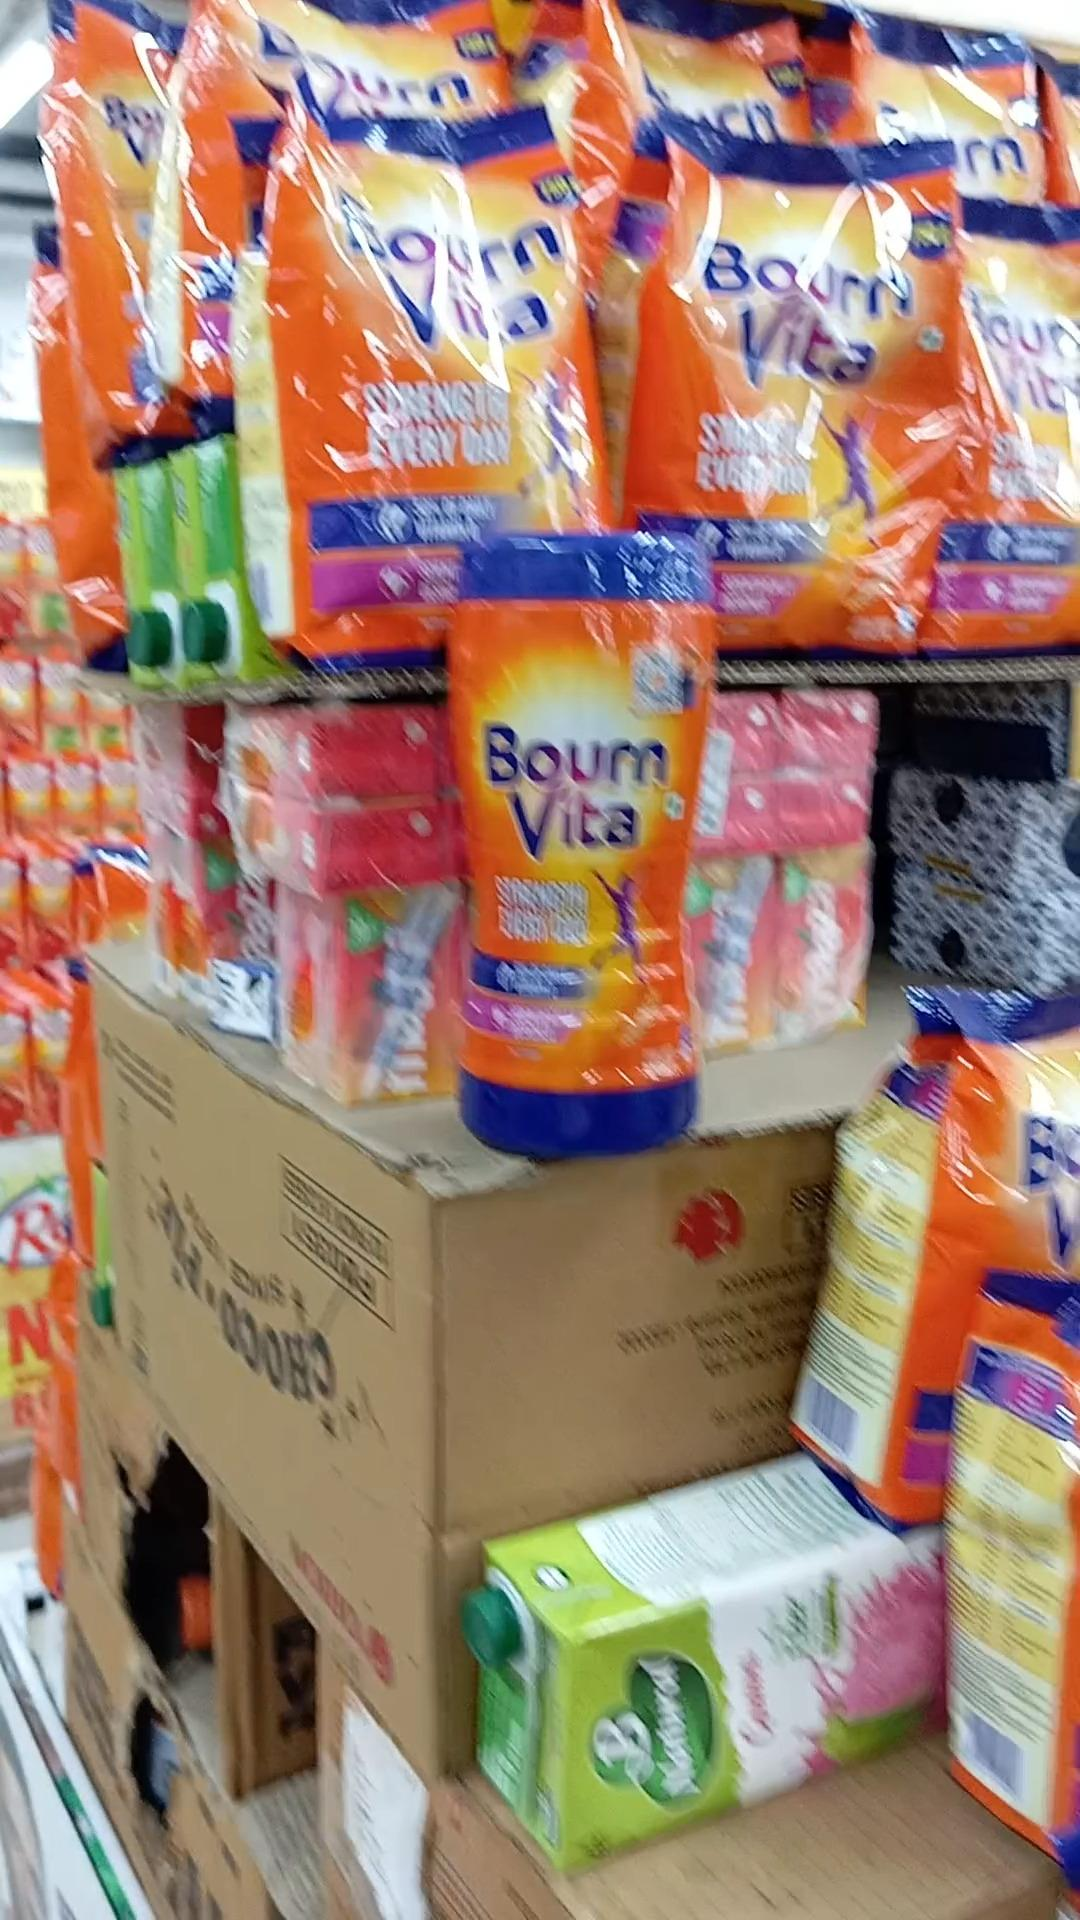COMPLAN_CHOCOLATE_200_GMS_JAR: (450, 504, 699, 1162)
